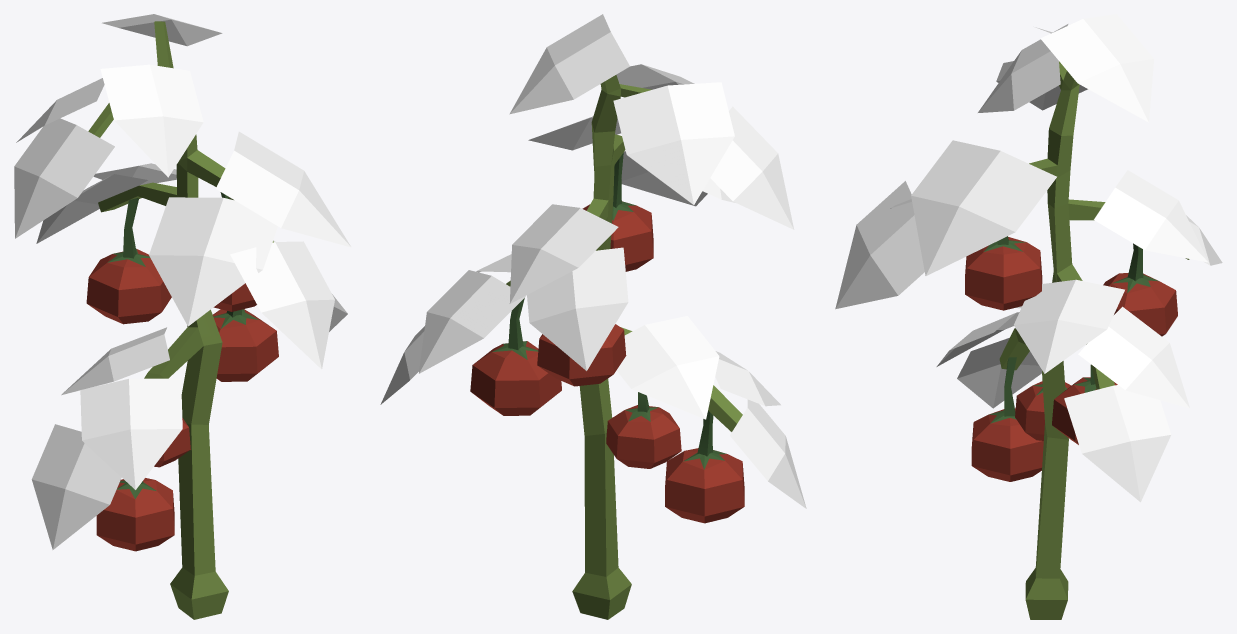
Rendered from tomato_plant.glb.
3 views of the same model, side by side, from view 1: azimuth 30°, elevation 25°; view 2: azimuth 150°, elevation 25°; view 3: azimuth 270°, elevation 25° (orthographic). The views are drawn at different scales.
Parts seen in each view (by area): view 1: SM_Prop_Plant_Bush_02_Tomato; view 2: SM_Prop_Plant_Bush_02_Tomato; view 3: SM_Prop_Plant_Bush_02_Tomato.
Part boxes in pixels (x1,y1,x2,y2): SM_Prop_Plant_Bush_02_Tomato: [14, 14, 351, 619]; SM_Prop_Plant_Bush_02_Tomato: [380, 14, 806, 619]; SM_Prop_Plant_Bush_02_Tomato: [835, 14, 1222, 619].
Bounding box in the file's own units: 0.6271 × 0.9888 × 0.5972.
Materials: 2 (2 with a texture image).
